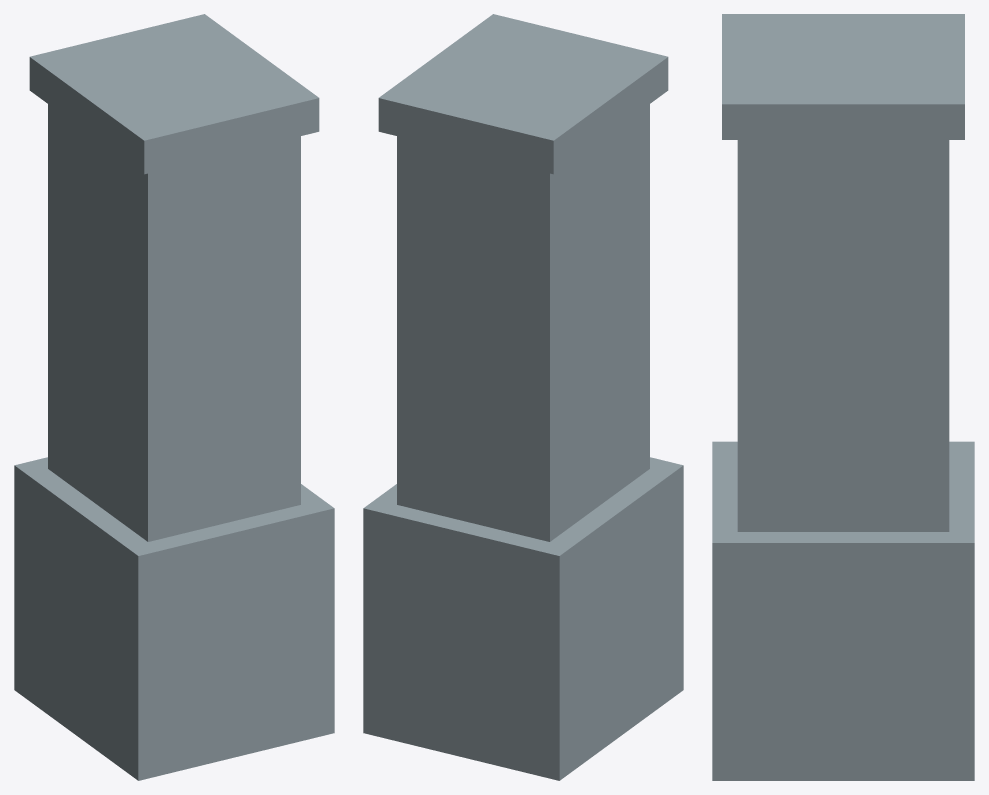
File: Pillar.obj
3 renders of one model, left to right at view 1: azimuth 30°, elevation 25°; view 2: azimuth 150°, elevation 25°; view 3: azimuth 270°, elevation 25°, orthographic. The views are drawn at different scales.
Parts seen in each view (by area): view 1: Pillar_Cube.003; view 2: Pillar_Cube.003; view 3: Pillar_Cube.003.
Part boxes in pixels (x1,y1,x2,y2): Pillar_Cube.003: (14,14,334,780); Pillar_Cube.003: (363,14,683,780); Pillar_Cube.003: (712,14,974,780).
Size of the model in its own units: 2.31 by 7.13 by 2.53.
